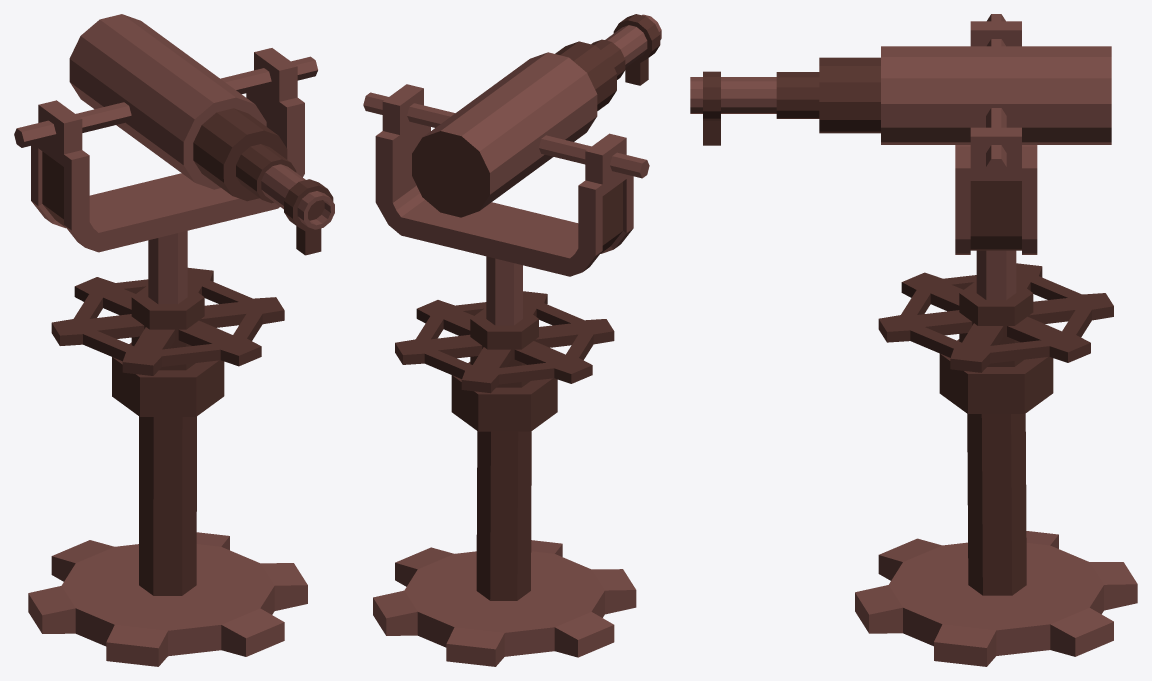
Rendered from gun.glb.
The picture shows the model from 3 angles, left to right: view 1: azimuth 30°, elevation 25°; view 2: azimuth 150°, elevation 25°; view 3: azimuth 270°, elevation 25°; orthographic projection. The views are drawn at different scales.
Visible parts, largest first — view 1: Gun_Simple_Mid_Cylinder.233, Gun_Simple_Gun_Cylinder.234, Gun_Simple_Base_Cylinder.143; view 2: Gun_Simple_Mid_Cylinder.233, Gun_Simple_Gun_Cylinder.234, Gun_Simple_Base_Cylinder.143; view 3: Gun_Simple_Mid_Cylinder.233, Gun_Simple_Gun_Cylinder.234, Gun_Simple_Base_Cylinder.143.
Part boxes in pixels (x1,y1,x2,y2): Gun_Simple_Mid_Cylinder.233: (14,48,317,595); Gun_Simple_Gun_Cylinder.234: (69,14,334,255); Gun_Simple_Base_Cylinder.143: (28,532,307,666); Gun_Simple_Mid_Cylinder.233: (363,84,649,600); Gun_Simple_Gun_Cylinder.234: (412,14,661,217); Gun_Simple_Base_Cylinder.143: (373,540,636,666); Gun_Simple_Mid_Cylinder.233: (878,14,1113,595); Gun_Simple_Gun_Cylinder.234: (690,46,1111,145); Gun_Simple_Base_Cylinder.143: (855,531,1137,666).
Size of the model in its own units: 0.9362 by 1.68 by 1.22.
